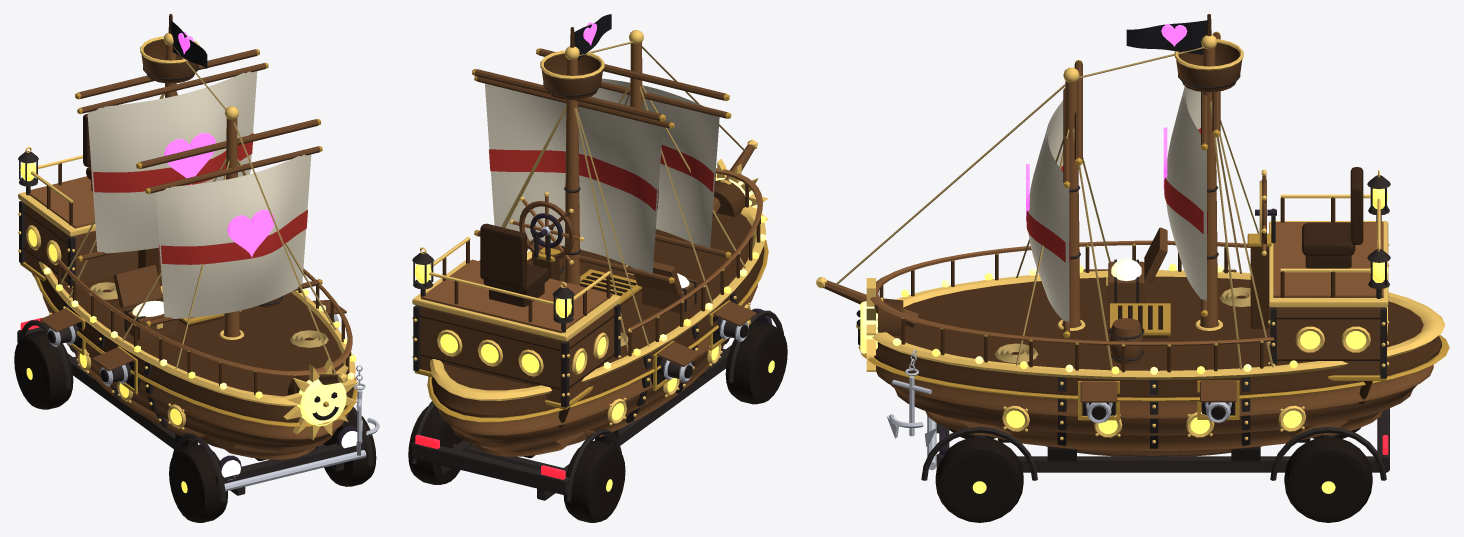
The model's file is dusty_doubloon.glb.
3 renders of one model, left to right at view 1: azimuth 30°, elevation 25°; view 2: azimuth 150°, elevation 25°; view 3: azimuth 270°, elevation 25°, orthographic. The views are drawn at different scales.
Visible parts, largest first — view 1: sailFore_front, strake_4, sailMain_front, castle, wheel_RR_tyre, wheel_FR_tyre, gunwale, strake_3, sailFore_band_f, strake_2, sailMain_band_f, toprail (+26 smaller); view 2: sailMain_back, strake_4, castle, sailFore_back, castle_deck, wheel_FR_tyre, wheel_RR_tyre, gunwale, sailMain_band_b, strake_3, bar_rear, seat_back (+38 smaller); view 3: strake_4, gunwale, strake_3, strake_2, wheel_RL_tyre, wheel_FL_tyre, strake_1, castle, castle_deck, sailMain_front, sailFore_front, rail_1 (+26 smaller).
Boxes of the visible parts, bbox=[...] form: sailFore_front: bbox=[156, 154, 311, 318]; strake_4: bbox=[39, 264, 353, 422]; sailMain_front: bbox=[88, 71, 257, 253]; castle: bbox=[25, 204, 160, 284]; wheel_RR_tyre: bbox=[14, 331, 73, 409]; wheel_FR_tyre: bbox=[169, 444, 227, 522]; gunwale: bbox=[38, 261, 355, 406]; strake_3: bbox=[42, 295, 347, 439]; sailFore_band_f: bbox=[161, 210, 307, 264]; strake_2: bbox=[66, 343, 336, 451]; sailMain_band_f: bbox=[93, 133, 253, 192]; toprail: bbox=[57, 260, 352, 375]; sailMain_back: bbox=[485, 83, 661, 274]; strake_4: bbox=[431, 213, 764, 417]; castle: bbox=[420, 306, 614, 403]; sailFore_back: bbox=[591, 79, 718, 248]; castle_deck: bbox=[421, 259, 612, 333]; wheel_FR_tyre: bbox=[725, 322, 787, 404]; wheel_RR_tyre: bbox=[563, 440, 625, 522]; gunwale: bbox=[430, 205, 765, 400]; sailMain_band_b: bbox=[489, 149, 656, 210]; strake_3: bbox=[438, 284, 757, 435]; bar_rear: bbox=[411, 441, 569, 494]; seat_back: bbox=[480, 223, 526, 288]; strake_4: bbox=[874, 276, 1441, 397]; gunwale: bbox=[872, 270, 1445, 379]; strake_3: bbox=[876, 365, 1433, 418]; strake_2: bbox=[891, 385, 1416, 435]; wheel_RL_tyre: bbox=[1284, 436, 1372, 522]; wheel_FL_tyre: bbox=[935, 436, 1023, 522]; strake_1: bbox=[925, 411, 1382, 450]; castle: bbox=[1273, 307, 1383, 375]; castle_deck: bbox=[1273, 222, 1383, 297]; sailMain_front: bbox=[1166, 86, 1204, 300]; sailFore_front: bbox=[1028, 100, 1066, 321]; rail_1: bbox=[1017, 456, 1387, 472].
Size of the model in its own units: 3.39 by 5.58 by 6.9.
